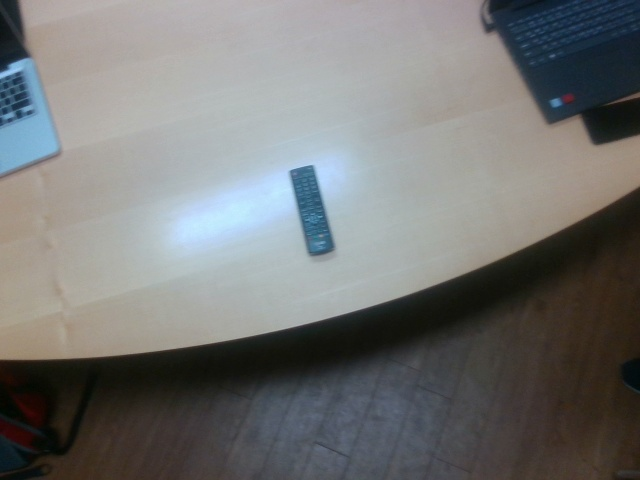remote: (288, 167, 335, 252)
